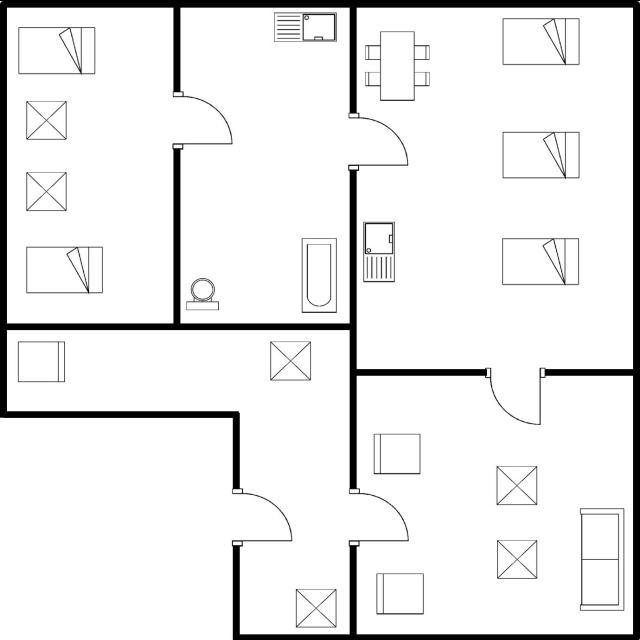bed: (498, 125, 586, 183), (496, 13, 586, 69), (22, 240, 108, 298), (14, 21, 100, 78), (497, 232, 583, 288)
coffee_table: (492, 458, 546, 508), (22, 166, 74, 216), (264, 336, 316, 386), (289, 582, 342, 630), (492, 534, 544, 582), (22, 96, 72, 145)
dining_table: (360, 28, 435, 106)
large_sink: (183, 274, 226, 314)
large_sofa: (572, 502, 628, 615)
sink: (270, 8, 344, 46), (360, 218, 400, 286)
small_sofa: (368, 428, 428, 480), (369, 568, 427, 618), (12, 338, 70, 386)
